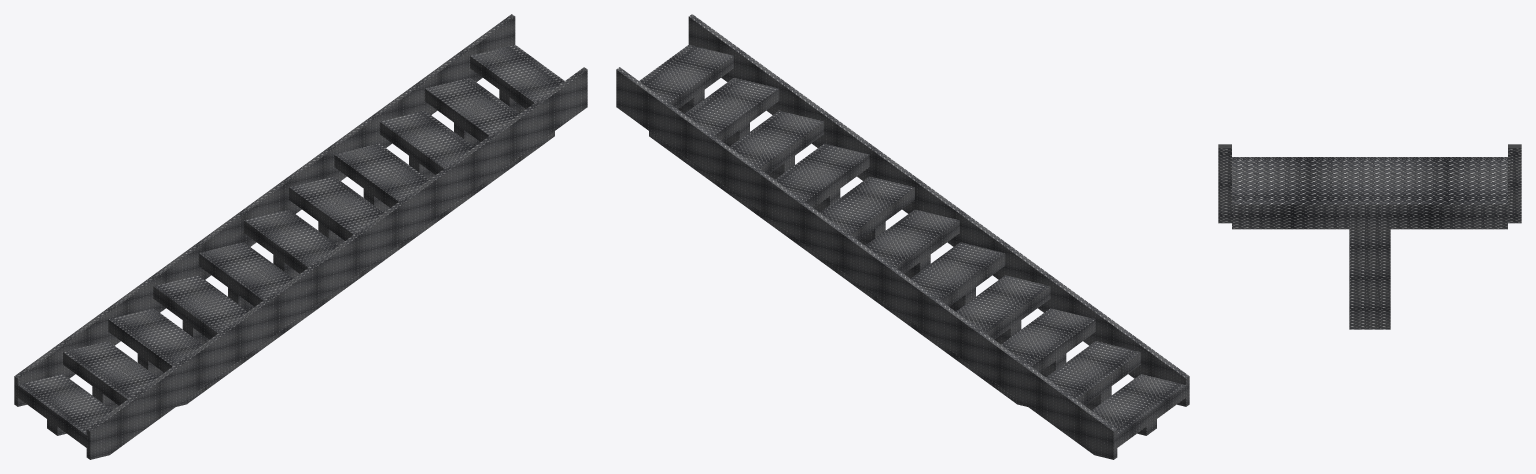
File: stair.FBX
The picture shows the model from 3 angles, left to right: view 1: azimuth 30°, elevation 25°; view 2: azimuth 150°, elevation 25°; view 3: azimuth 270°, elevation 25°; orthographic projection. The views are drawn at different scales.
Parts seen in each view (by area): view 1: StraightStair001; view 2: StraightStair001; view 3: StraightStair001.
Part boxes in pixels (x1,y1,x2,y2): StraightStair001: (14, 14, 587, 459); StraightStair001: (616, 14, 1189, 459); StraightStair001: (1218, 144, 1521, 329).
Bounding box in the file's own units: 83.14 × 42.96 × 21.97.
1 material, 1 textured.
